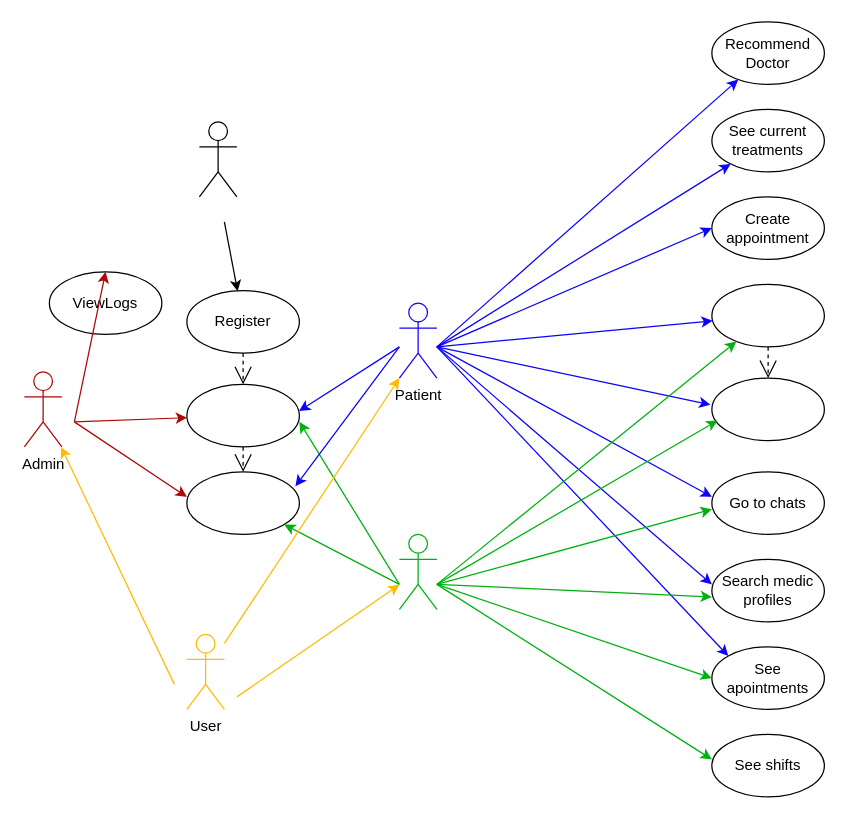
The diagram is 846 pixels wide and 819 high, and some of its shapes have lost their labels. Here are the shapes that lost their labels. From the top down, the box of each, then its label:
(198, 121, 237, 197): New User
(711, 283, 824, 347): See profile info
(186, 383, 299, 447): Log in
(711, 377, 824, 441): Update profile info
(186, 471, 299, 534): Log out
(398, 533, 437, 609): Doctor
